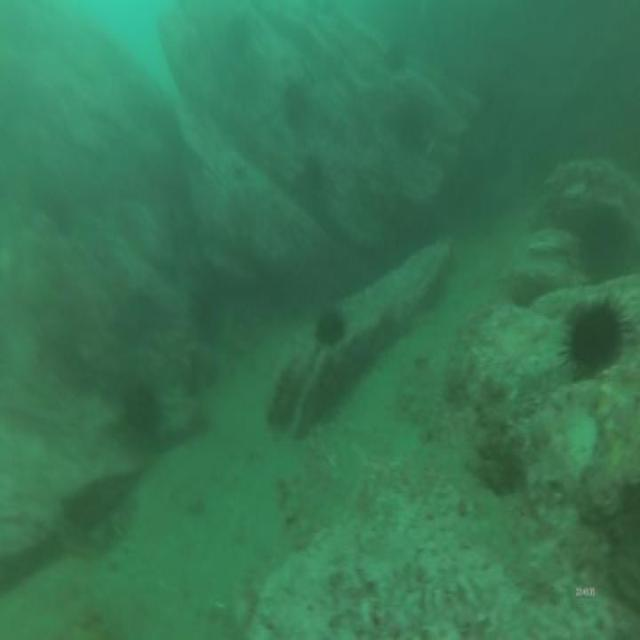echinus: (559, 292, 633, 384), (121, 374, 161, 449), (394, 93, 426, 149), (312, 303, 347, 351), (224, 10, 251, 63), (279, 74, 306, 125), (300, 150, 326, 199), (380, 38, 408, 77)
